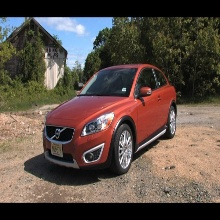no damage: (43, 63, 178, 175)
